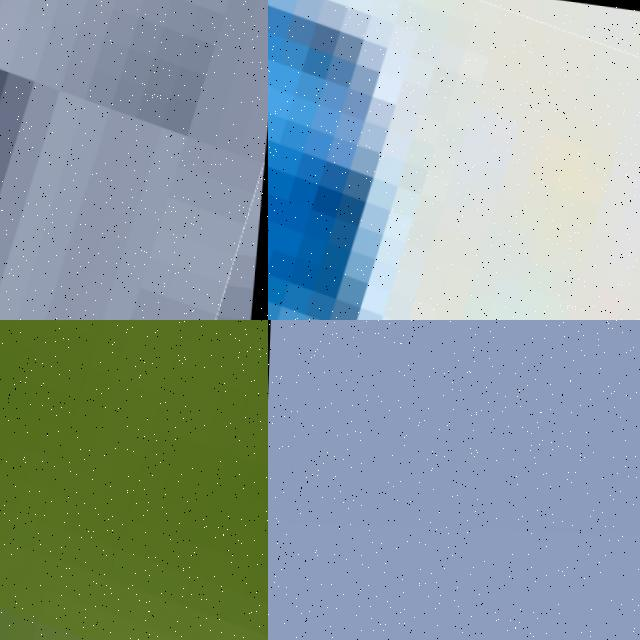drone: (268, 0, 640, 320), (0, 0, 268, 320), (0, 320, 268, 640)
